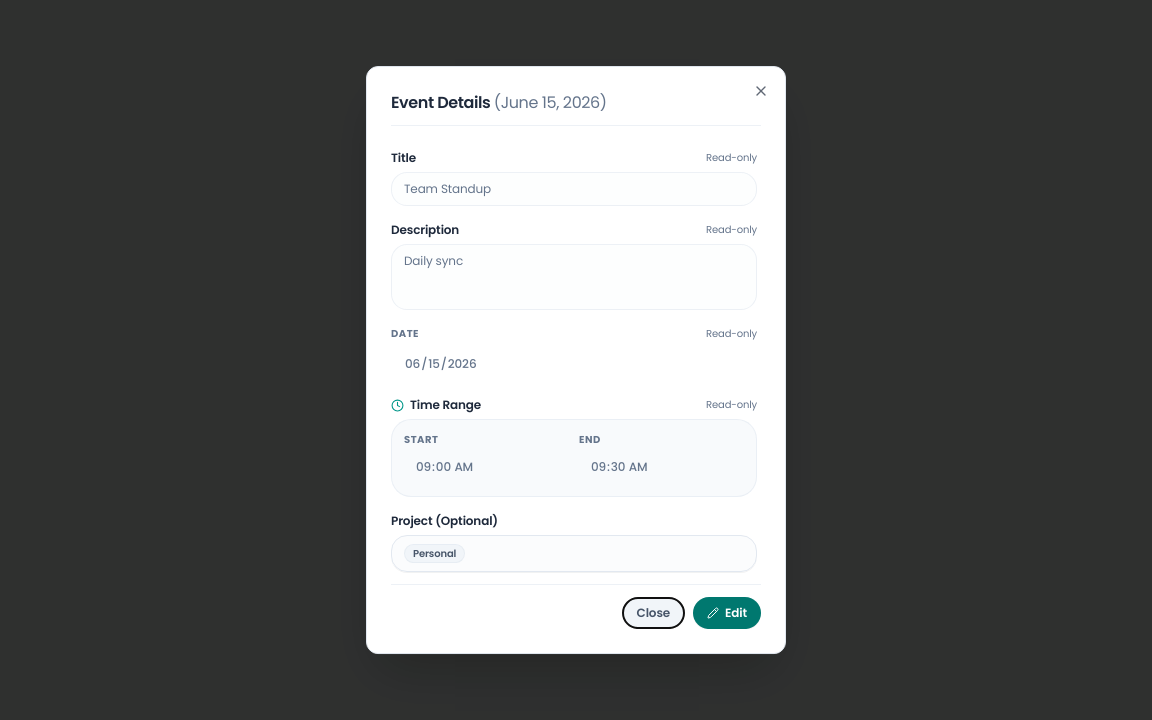
EventFormModal › renders in view-only / details mode initially and supports switching to edit mode
Expected: the text "Event Details" is shown, top-left (391, 91), bottom-right (490, 114)
Expected: the field showing "Team Standup" is disabled, top-left (391, 172), bottom-right (757, 206)
Click the button "Edit" at (727, 613), box top-left (693, 597), bottom-right (761, 629)
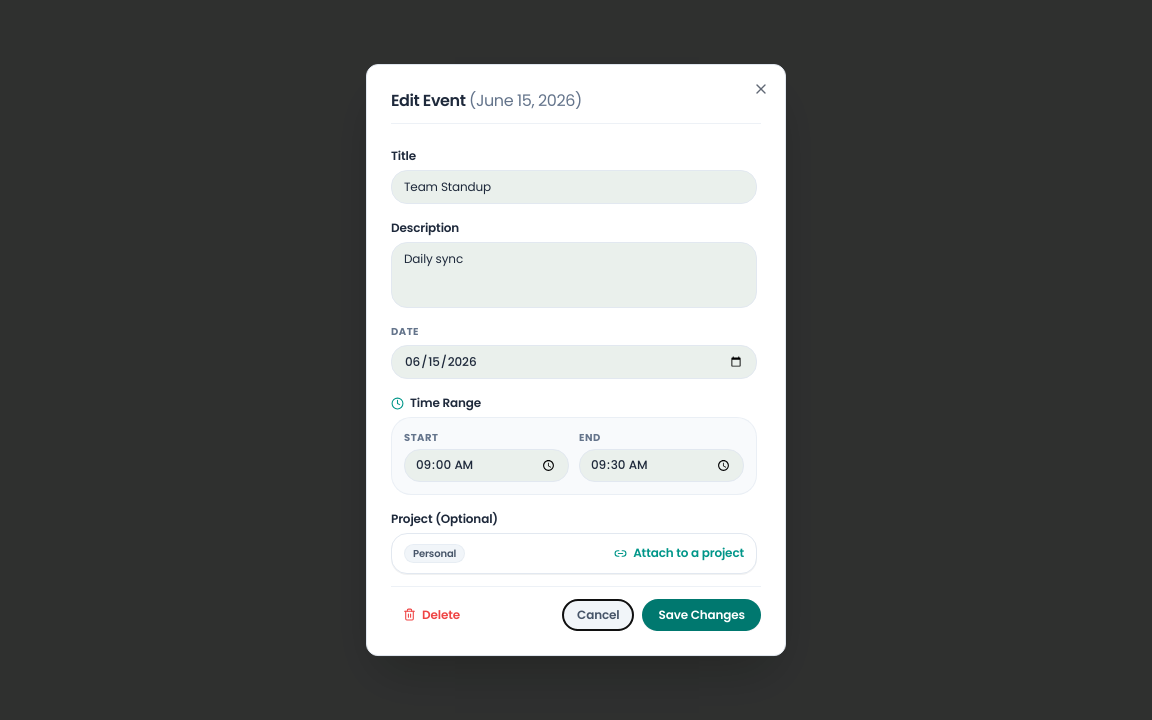
Now the text "Edit Event" is shown, box top-left (391, 89), bottom-right (466, 112)
Now the field showing "Team Standup" is enabled, box top-left (391, 170), bottom-right (757, 204)
